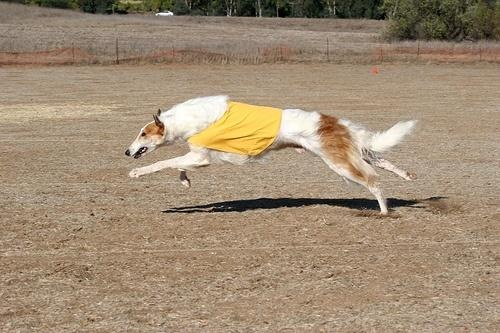dog: (125, 92, 421, 217)
